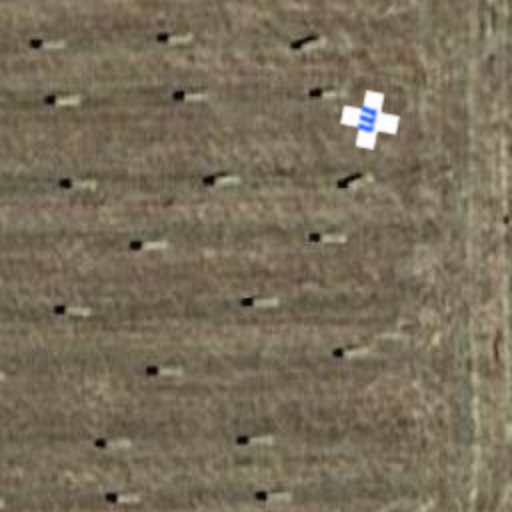cross: (336, 86, 404, 154)
